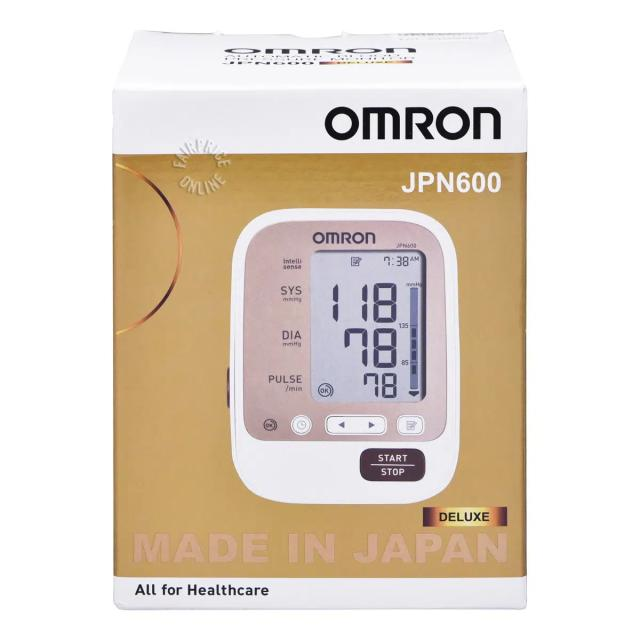dia: (338, 322, 405, 371)
pul: (354, 368, 407, 407)
ssd: (309, 249, 427, 403)
sys: (322, 276, 407, 325)
